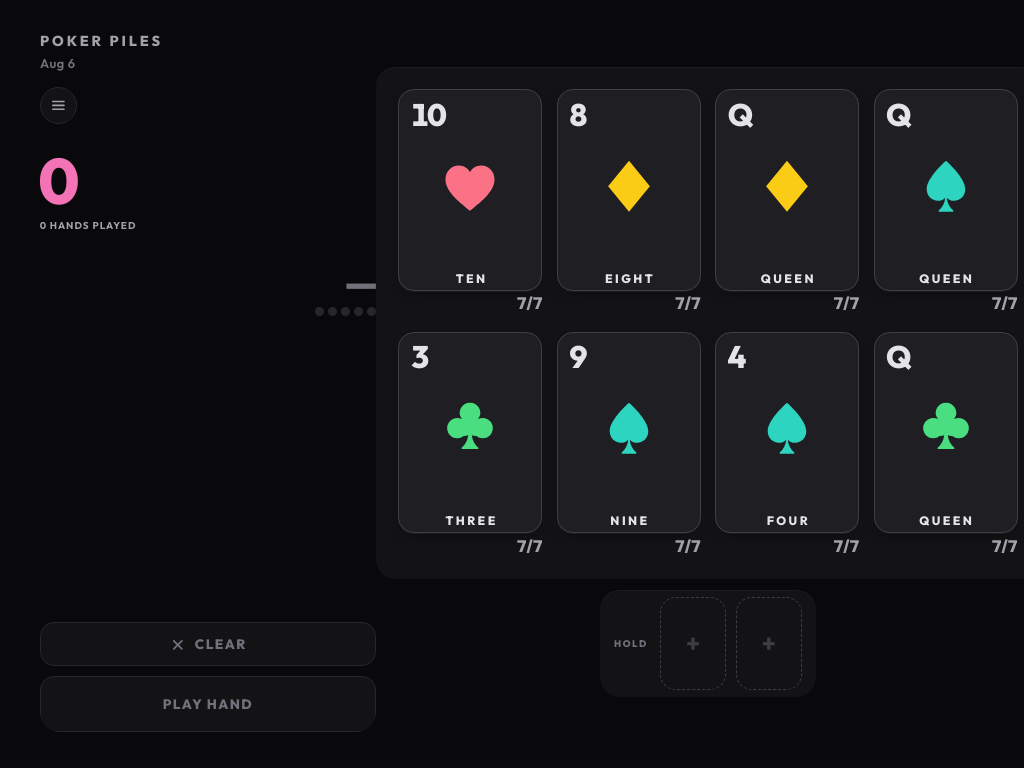
Test: App › toggles and persists the theme
Click the button named "Menu": click(58, 105) [40,87,77,124]
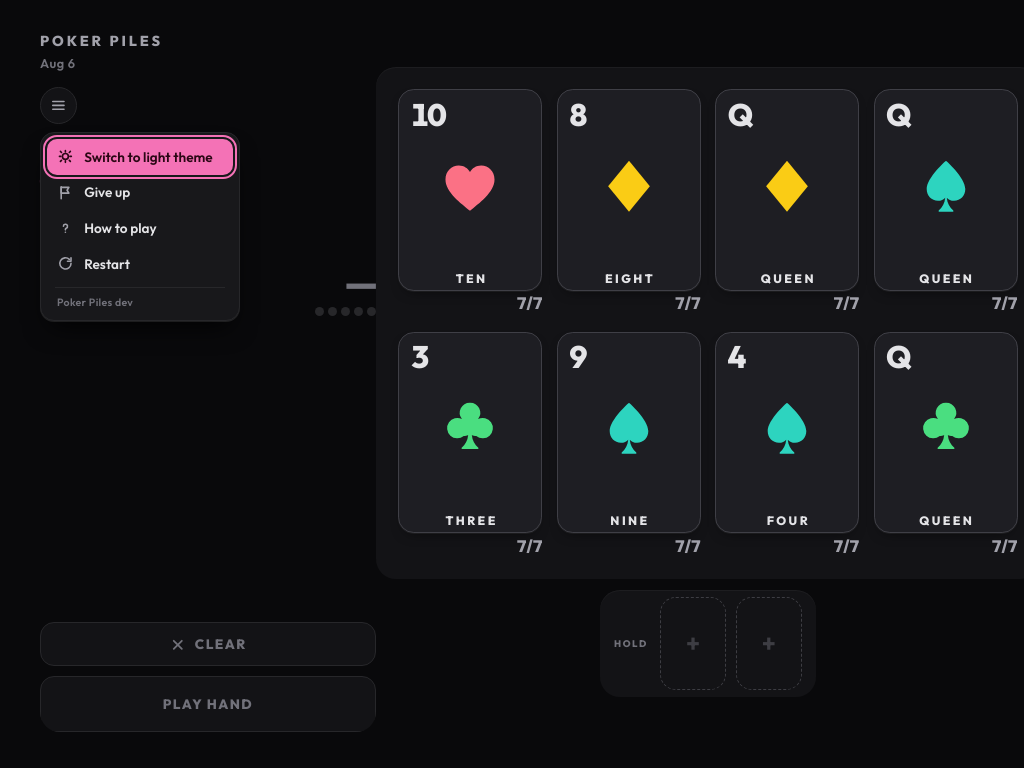
Click the button "Switch to light theme": click(140, 157) [47,139,233,175]
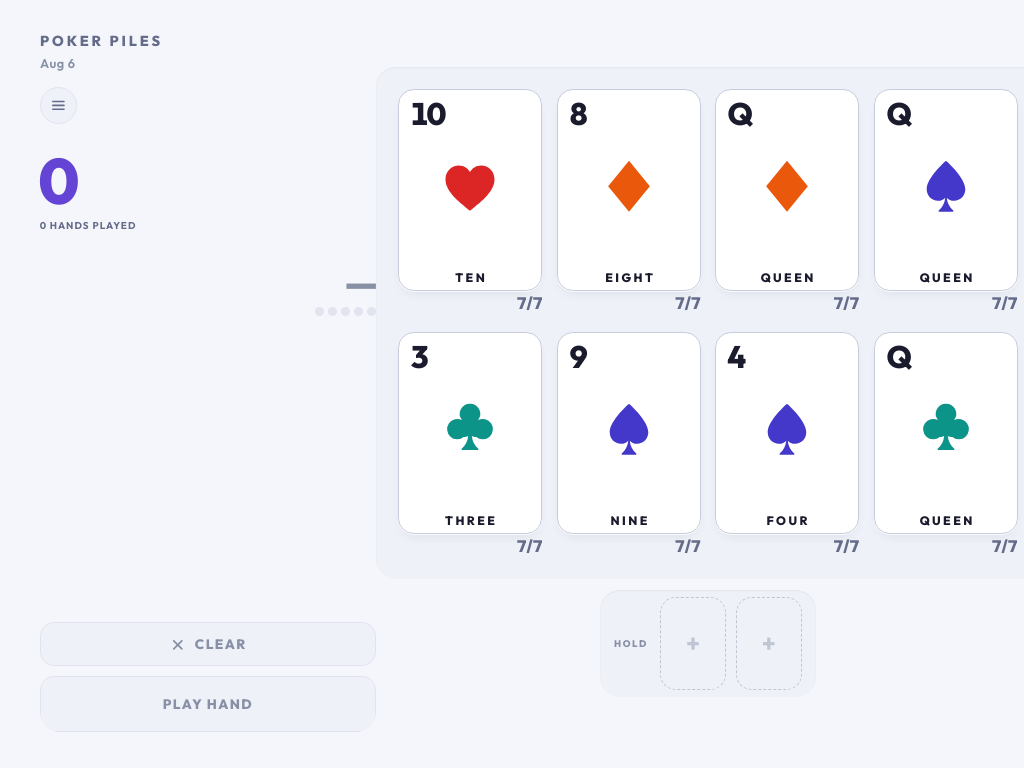
Click the button named "Menu": click(58, 105) [40,87,77,124]
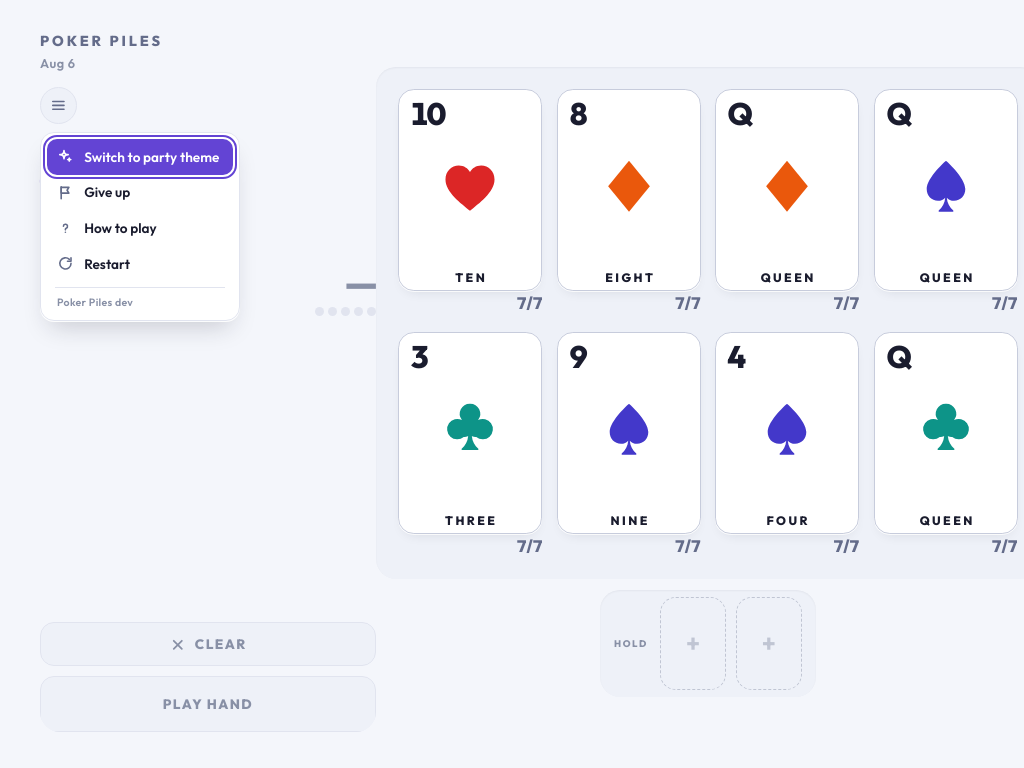
Result: the button "Switch to party theme" is shown at [47,139,233,175]
